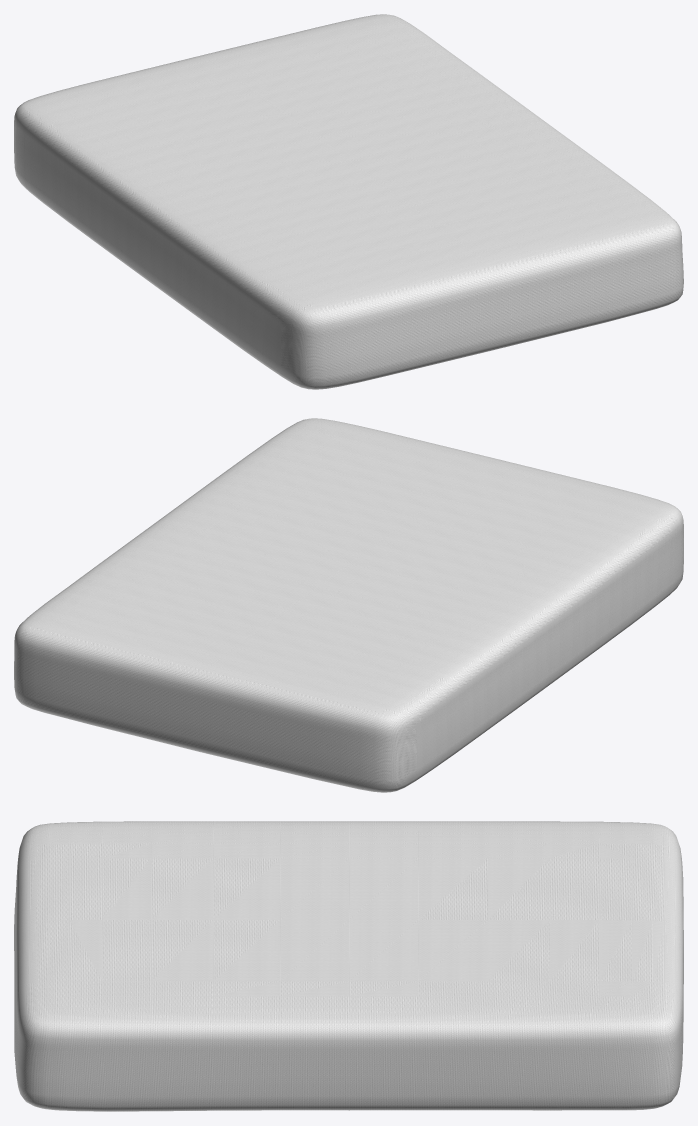
File: sheets.gltf
3 renders of one model, top to bottom at view 1: azimuth 30°, elevation 25°; view 2: azimuth 150°, elevation 25°; view 3: azimuth 270°, elevation 25°, orthographic. The views are drawn at different scales.
Parts seen in each view (by area): view 1: sheet-fitted; view 2: sheet-fitted; view 3: sheet-fitted.
Boxes of the visible parts, bbox=[...] form: sheet-fitted: bbox=[14, 14, 683, 389]; sheet-fitted: bbox=[14, 418, 683, 792]; sheet-fitted: bbox=[14, 821, 683, 1111].
Size of the model in its own units: 1.17 by 0.2339 by 1.57.
Materials: 1 (1 with a texture image).
